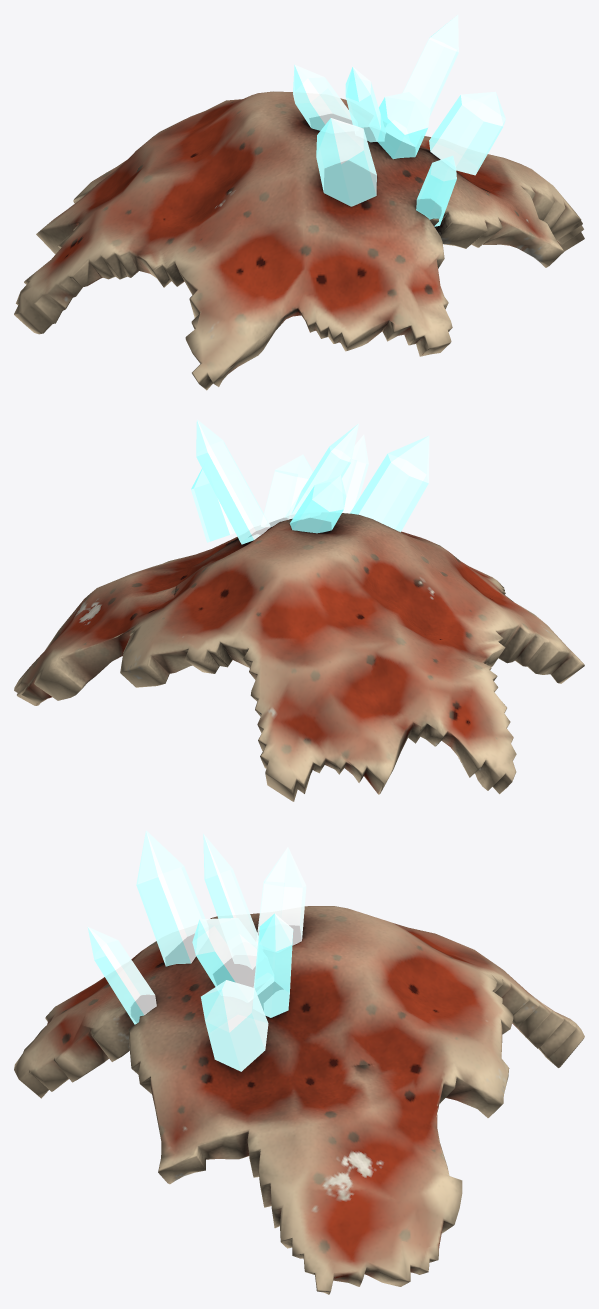
Rendered from item_carapaca_v2.glb.
The picture shows the model from 3 angles, top to bottom: view 1: azimuth 30°, elevation 25°; view 2: azimuth 150°, elevation 25°; view 3: azimuth 270°, elevation 25°; orthographic projection. The views are drawn at different scales.
Parts seen in each view (by area): view 1: item_carapaca, sal2, sal0, sal4, sal5, sal3, sal6, sal1; view 2: item_carapaca, sal0, sal4, sal5, sal3, sal6, sal2, sal1; view 3: item_carapaca, sal0, sal2, sal5, sal4, sal6, sal1, sal3.
Boxes of the visible parts, x1,y1,x2,y2 form: item_carapaca: (14,91,584,390); sal2: (429,91,505,175); sal0: (316,118,376,206); sal4: (385,14,458,142); sal5: (370,92,430,159); sal3: (293,64,352,130); sal6: (345,67,385,142); sal1: (416,155,456,226); item_carapaca: (14,513,584,801); sal0: (350,436,429,532); sal4: (196,419,270,544); sal5: (261,454,313,527); sal3: (289,475,346,533); sal6: (285,423,358,518); sal2: (191,468,235,542); sal1: (342,434,368,513); item_carapaca: (14,906,584,1294); sal0: (136,830,205,966); sal2: (201,980,268,1071); sal5: (192,918,273,994); sal4: (254,913,293,1017); sal6: (203,834,258,968); sal1: (87,927,156,1024); sal3: (257,847,306,945).
Size of the model in its own units: 0.2802 by 0.1467 by 0.2368.
Materials: 8 (1 with a texture image).
